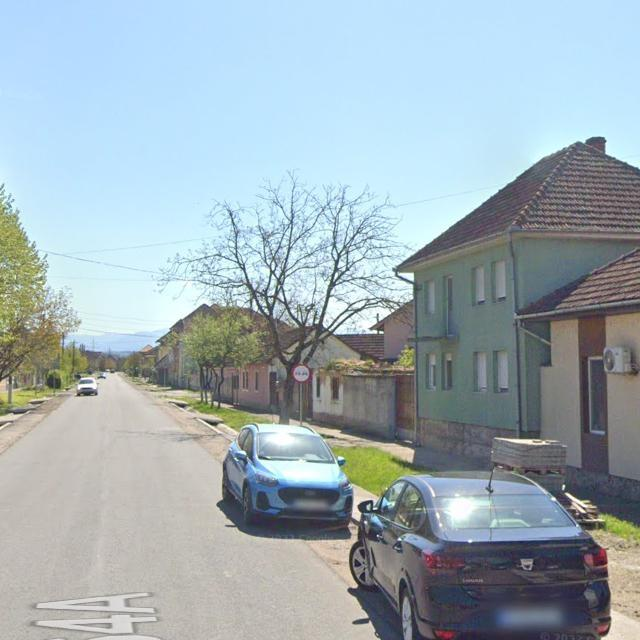forb_overtake: (292, 364, 312, 384)
